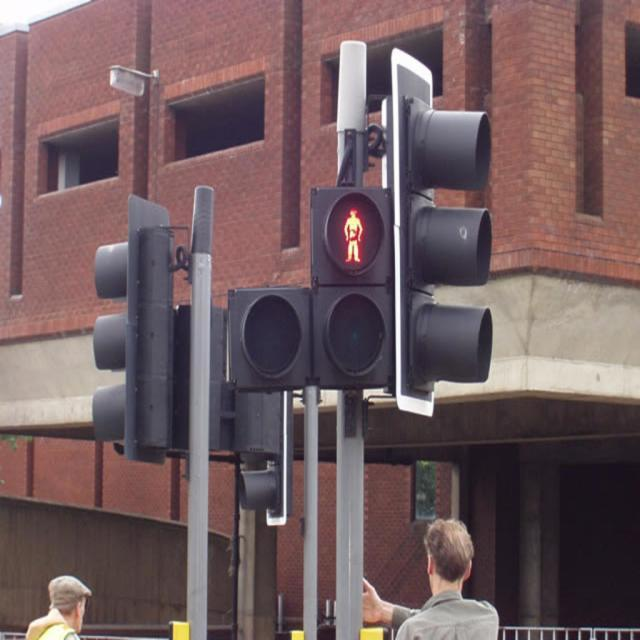off traffic light: (75, 192, 181, 456)
traffic light: (389, 49, 497, 410), (307, 183, 409, 392)
